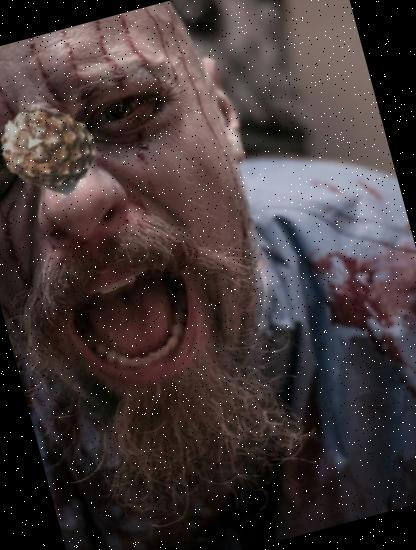Pineapple: (0, 87, 109, 209)
